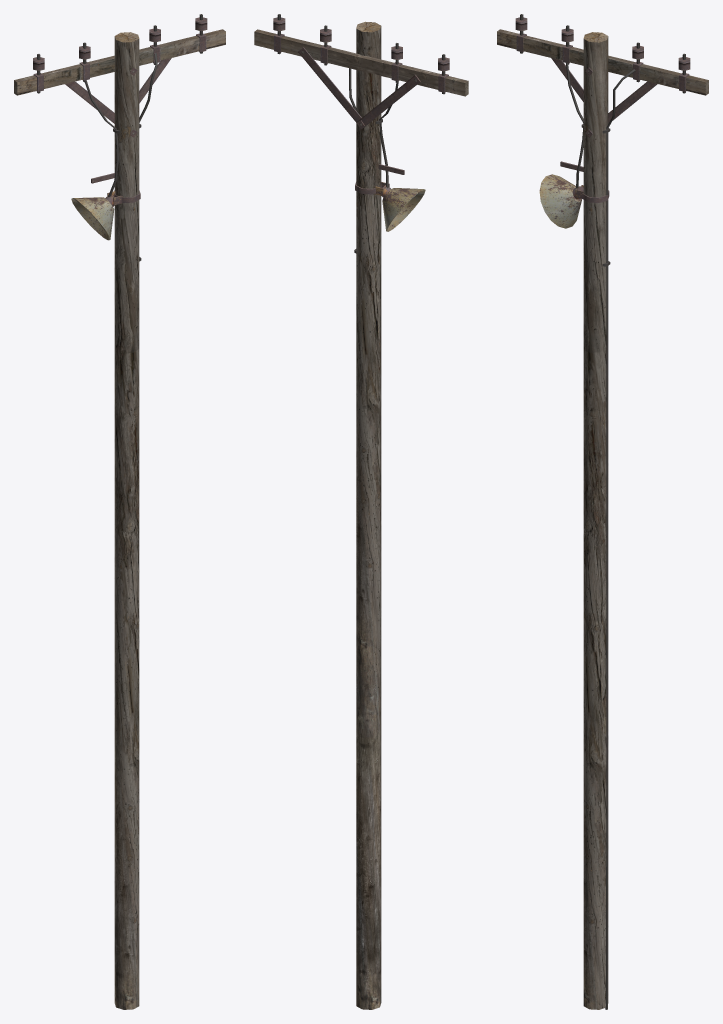
The model's file is Powerpole_light.fbx.
The picture shows the model from 3 angles, left to right: view 1: azimuth 30°, elevation 25°; view 2: azimuth 150°, elevation 25°; view 3: azimuth 330°, elevation 25°; orthographic projection.
Parts seen in each view (by area): view 1: polySurface447; view 2: polySurface447; view 3: polySurface447.
Boxes of the visible parts, bbox=[...] form: polySurface447: bbox=[14, 14, 225, 1009]; polySurface447: bbox=[254, 14, 468, 1009]; polySurface447: bbox=[497, 14, 708, 1009].
Bounding box in the file's own units: 2.26 × 10.02 × 0.5362.
